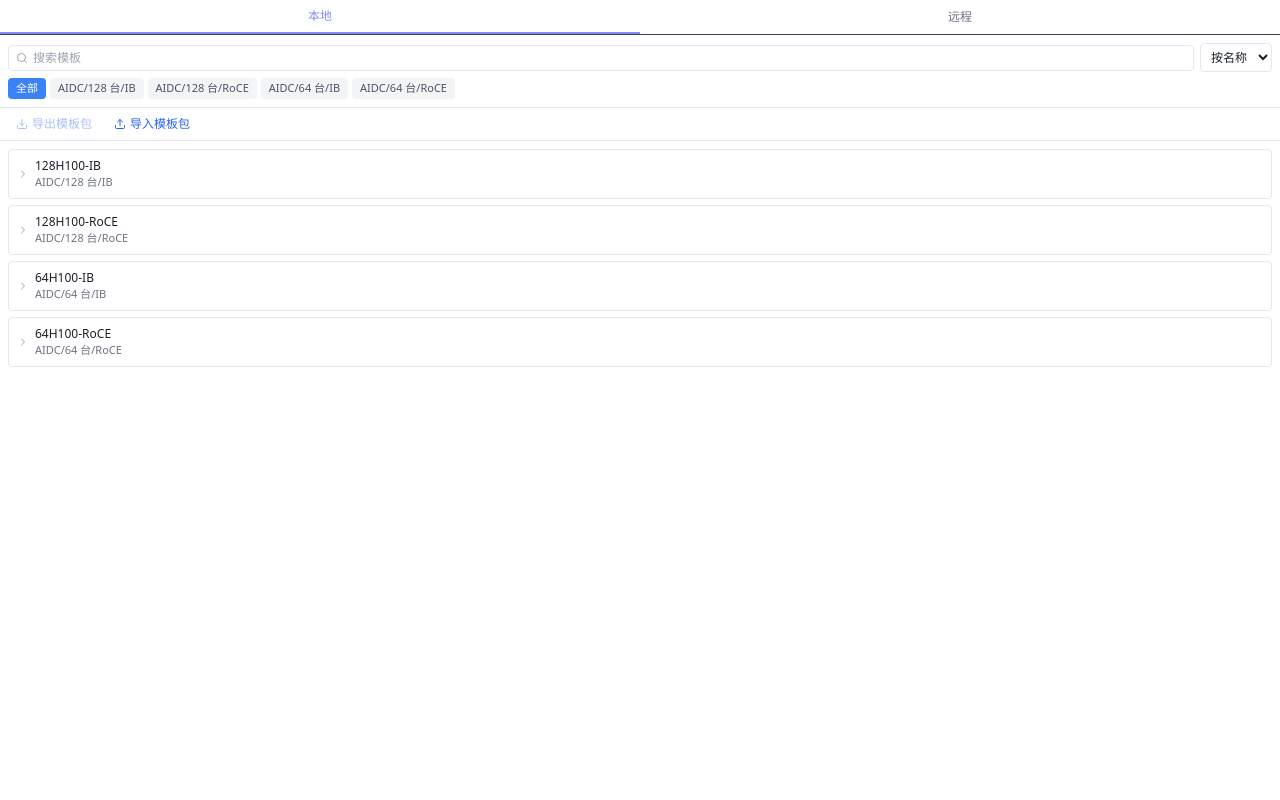
Scenario: 4.9.0 模板中心展示 AIDC 示例 › 从模板新建 → 创建对话框携带模板名
Click the text "128H100-RoCE": coordinates (76, 222) [35, 214, 118, 230]
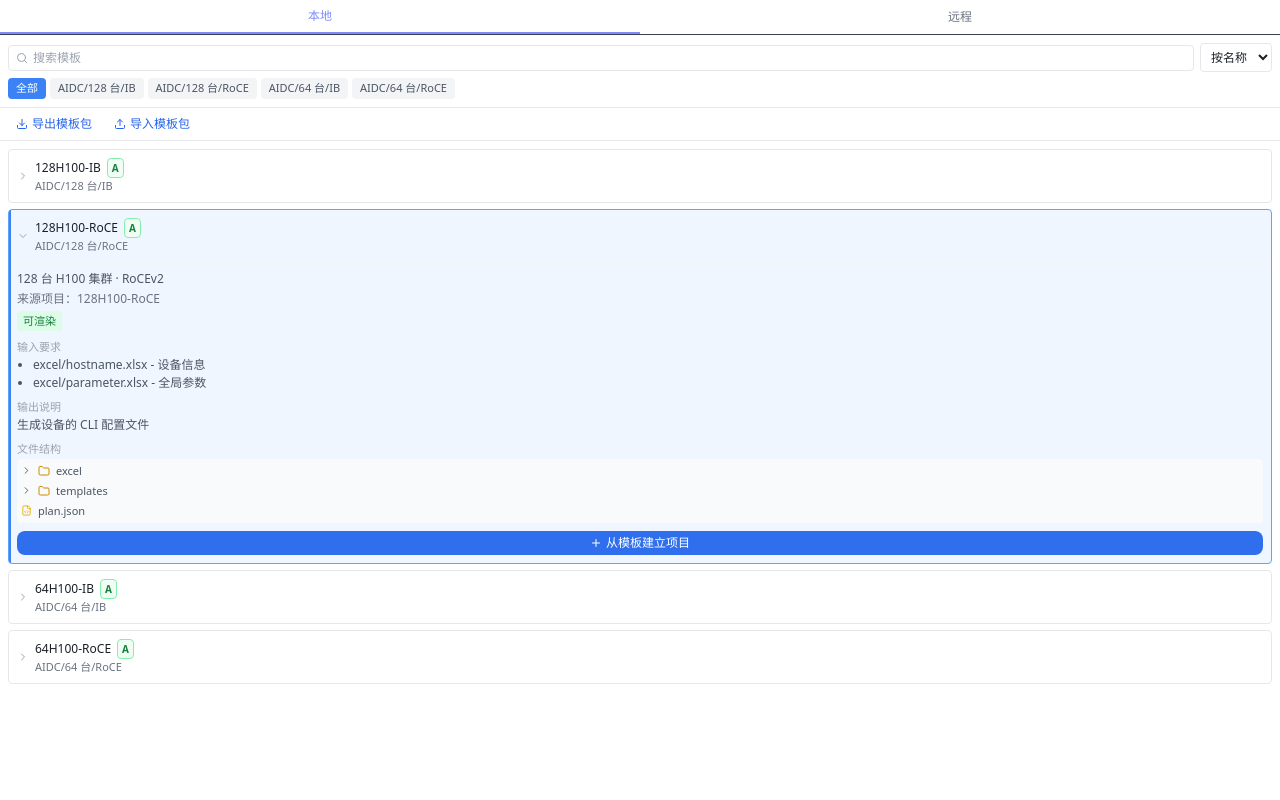
Click the button "从模板建立项目": coordinates (640, 542) [17, 530, 1263, 554]
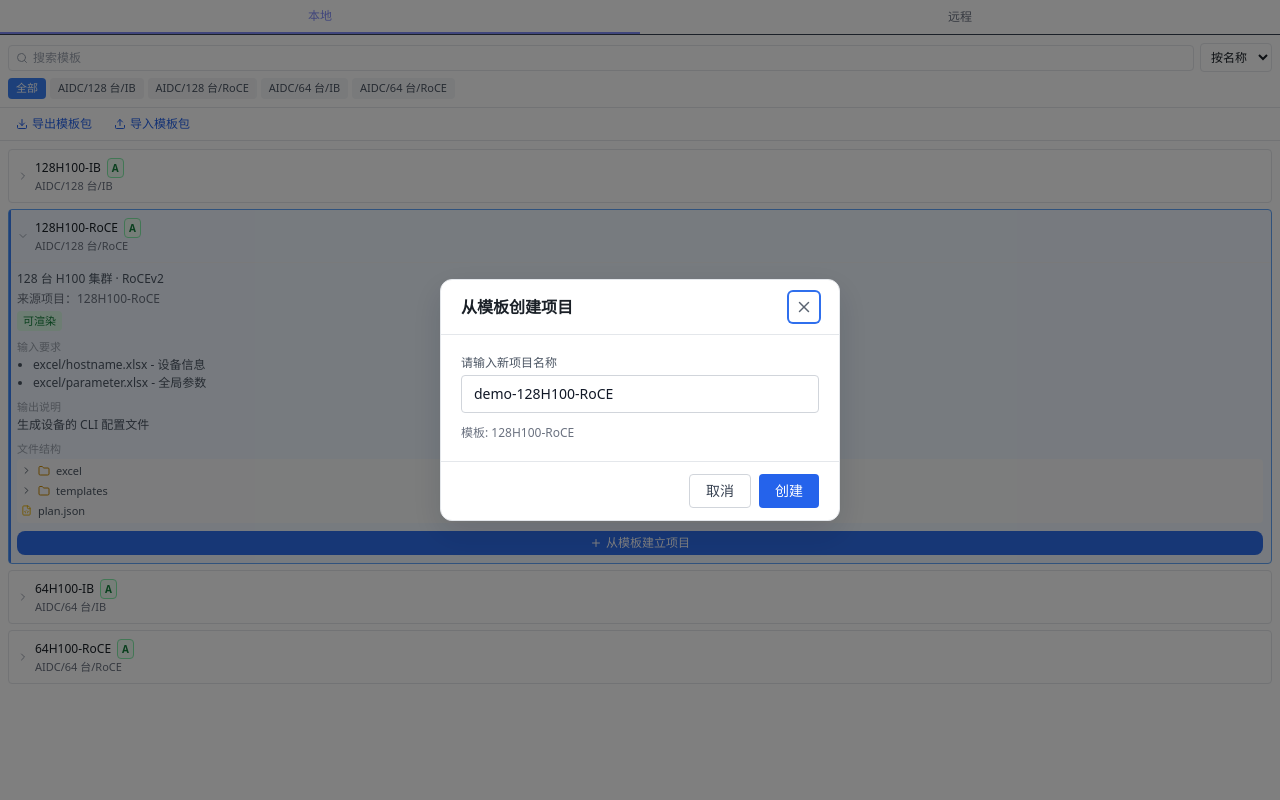
Expected: the field with placeholder "请输入新项目名称" holds "demo-128H100-RoCE", [461, 375, 819, 413]
Expected: the button "创建" is enabled, [759, 474, 819, 508]
